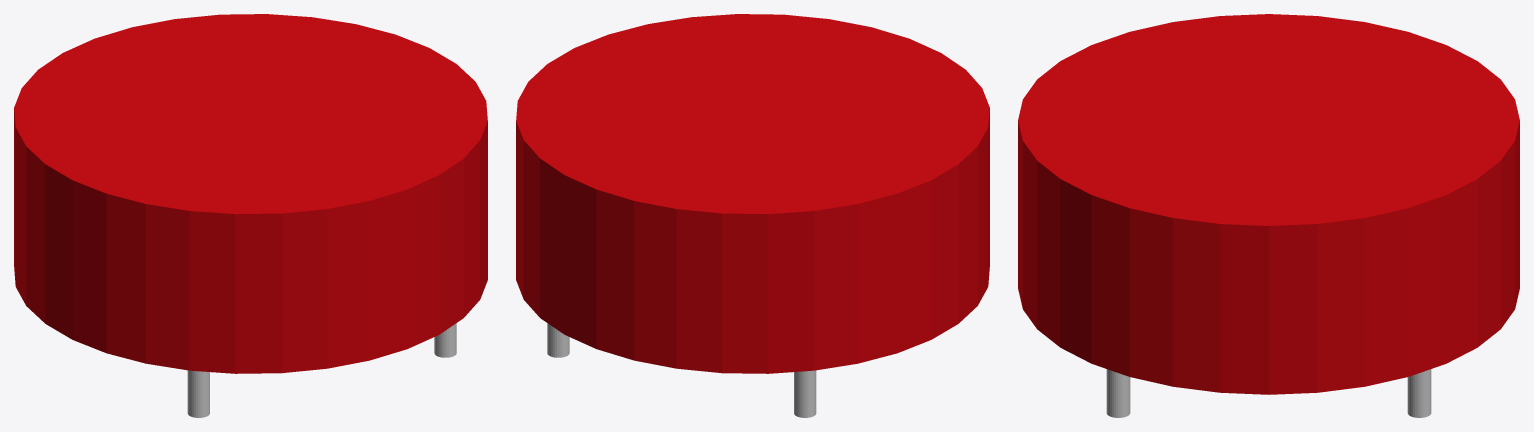
The model's file is DiningTable.fbx.
3 renders of one model, left to right at view 1: azimuth 30°, elevation 25°; view 2: azimuth 150°, elevation 25°; view 3: azimuth 270°, elevation 25°, orthographic. The views are drawn at different scales.
Parts seen in each view (by area): view 1: Cylinder.001; view 2: Cylinder.001; view 3: Cylinder.001.
Part boxes in pixels (x1=…): Cylinder.001: x1=14, y1=14, x2=487, y2=417; Cylinder.001: x1=516, y1=14, x2=989, y2=417; Cylinder.001: x1=1018, y1=14, x2=1519, y2=417.
Bounding box in the file's own units: 200 × 101 × 200.
